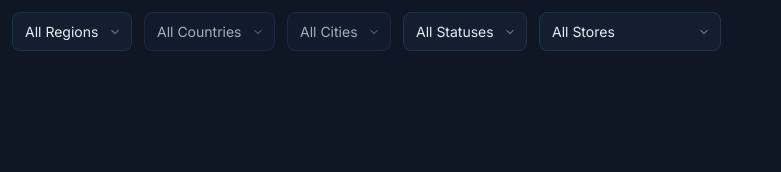
Test: Filtering Functionality Validation › City filter is enabled after country selection
expect the 3rd dropdown showing "All Cities" is disabled: met, box top-left (287, 12), bottom-right (391, 51)
# Select region
Select "EMEA" in the 1st dropdown showing "All Regions". click: (72, 32)
box: top-left (12, 12), bottom-right (132, 51)
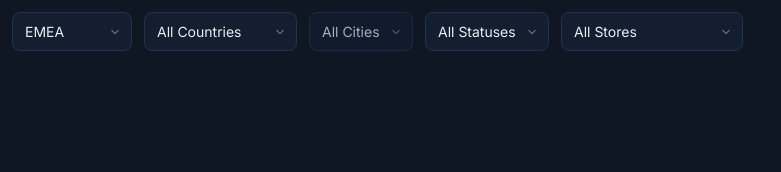
expect the 2nd dropdown showing "All Countries" is enabled: met
# Select country
Select "United Kingdom" in the 2nd dropdown showing "All Countries". click: (220, 32)
box: top-left (144, 12), bottom-right (297, 51)
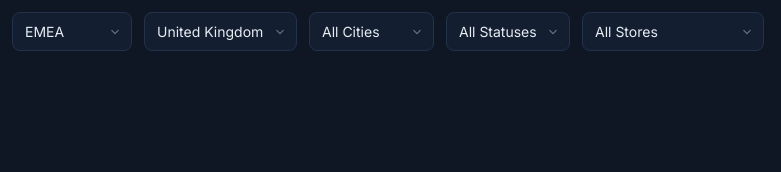
expect the 3rd dropdown showing "All Cities" is enabled: met, box top-left (309, 12), bottom-right (434, 51)
